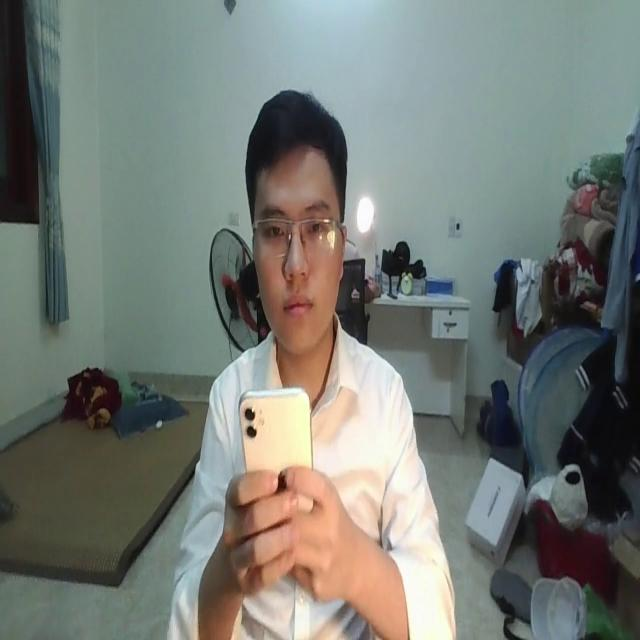phone: (240, 372, 318, 554)
student: (168, 88, 457, 640)
